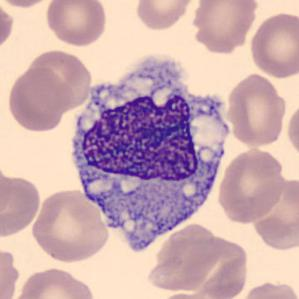Monocyte: (57, 46, 236, 263)
RBC: (29, 187, 111, 263), (141, 222, 226, 293), (215, 146, 289, 226), (224, 72, 289, 148), (22, 48, 94, 113), (6, 65, 71, 134), (189, 0, 259, 54), (248, 9, 298, 80), (254, 176, 299, 251), (43, 0, 108, 48), (11, 265, 98, 299), (0, 171, 43, 239), (132, 0, 198, 32), (238, 278, 298, 299), (0, 245, 22, 298), (285, 100, 299, 163), (0, 1, 16, 55), (0, 159, 13, 219), (150, 289, 218, 299), (0, 0, 59, 9)
